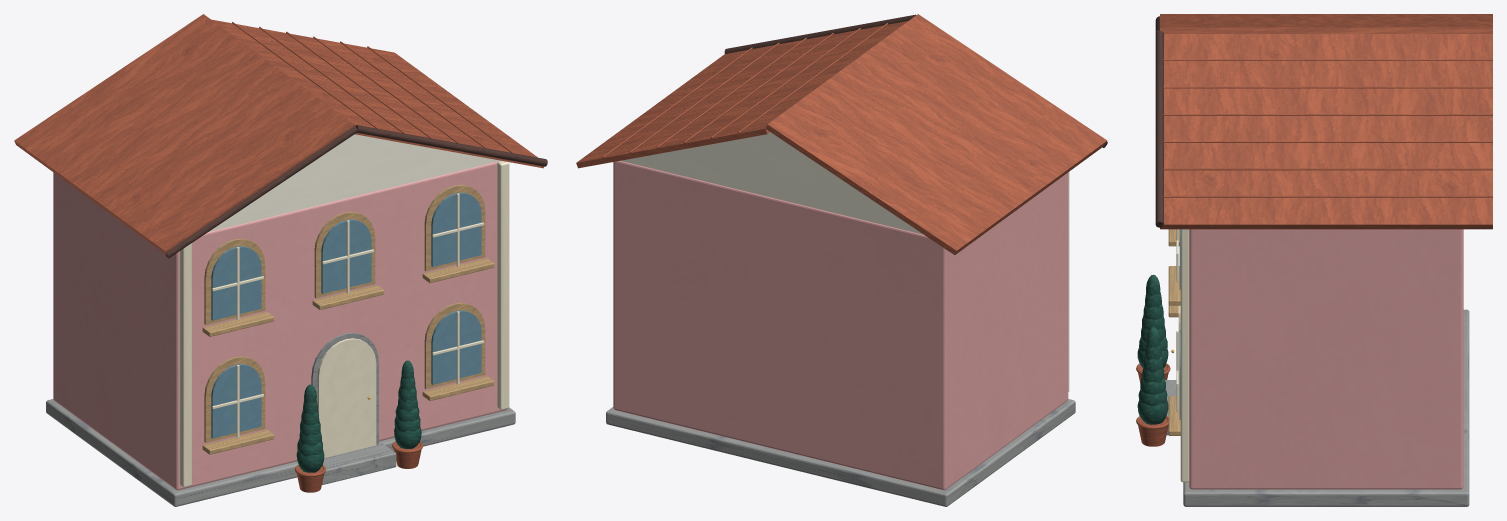
File: villa.glb
3 views of the same model, side by side, from view 1: azimuth 30°, elevation 25°; view 2: azimuth 150°, elevation 25°; view 3: azimuth 270°, elevation 25° (orthographic). The views are drawn at different scales.
Parts seen in each view (by area): view 1: villa; view 2: villa; view 3: villa.
Boxes of the visible parts, x1,y1,x2,y2 form: villa: (14,14,547,506); villa: (576,14,1107,506); villa: (1136,14,1492,506).
Bounding box in the file's own units: 7.46 × 6.54 × 5.47.
3 materials, 3 textured.
